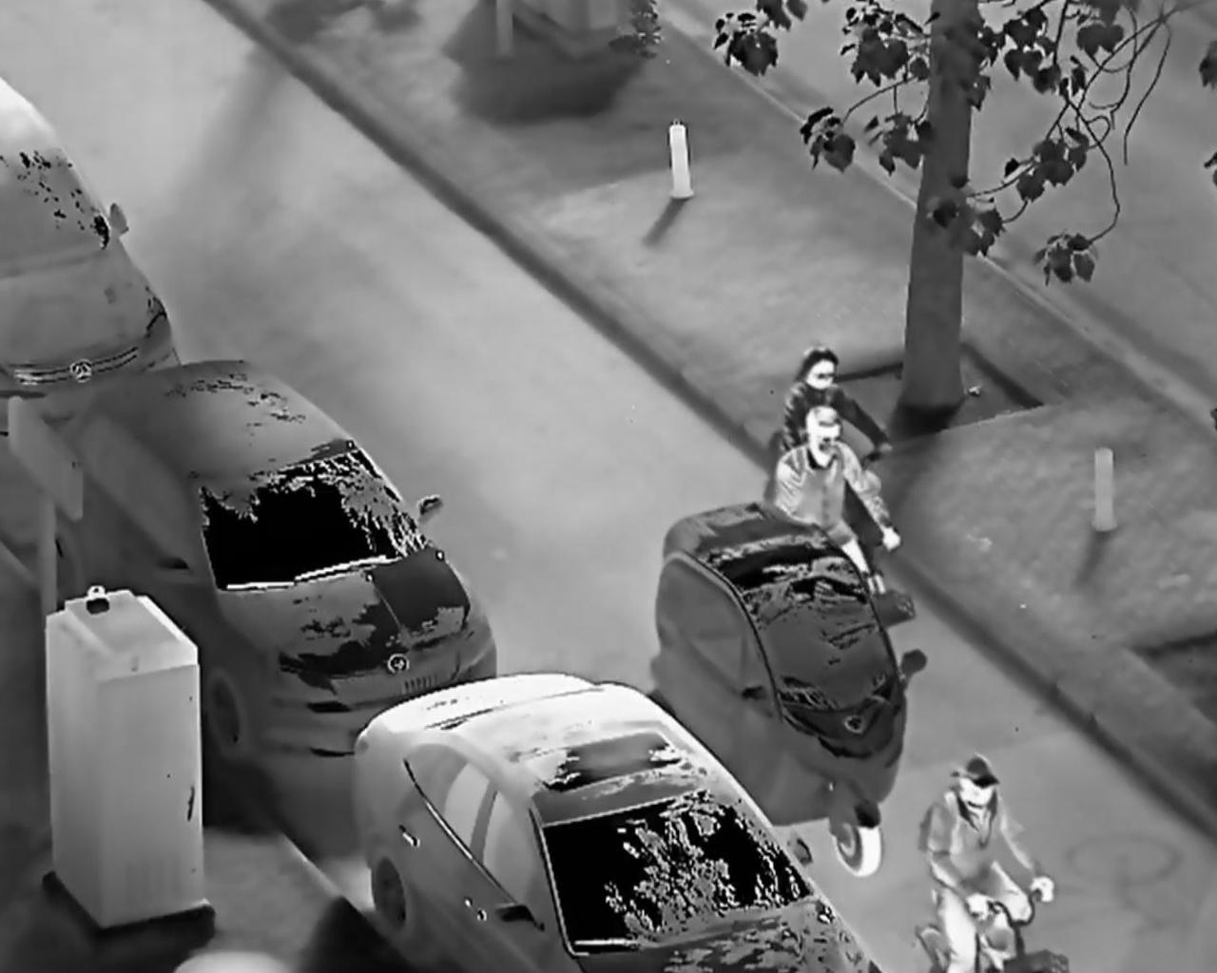person: (918, 749, 1061, 973), (769, 403, 903, 577), (770, 343, 898, 479)
